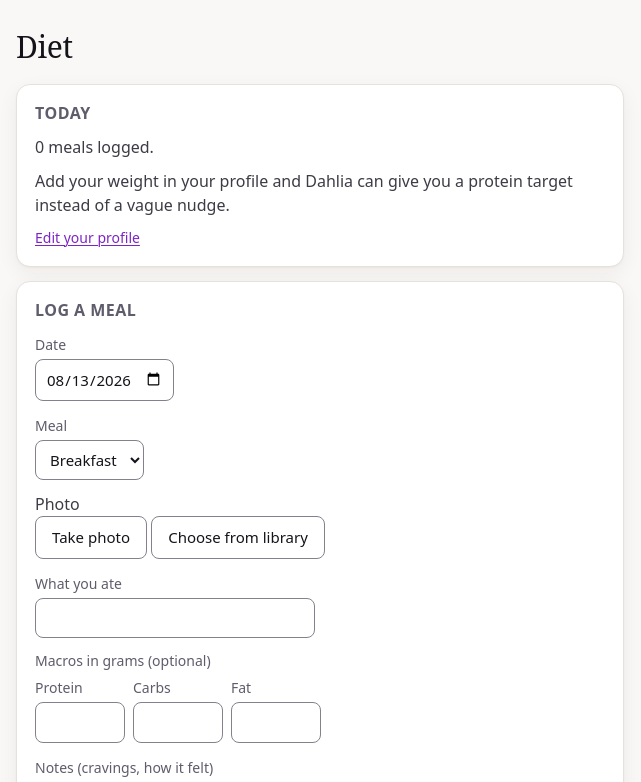
Scenario: Diet page › saves a meal and shows it in history
Type "dal and rice" into the field labelled "What you ate" at (175,618), box [35, 598, 315, 638]
(page scrolled)
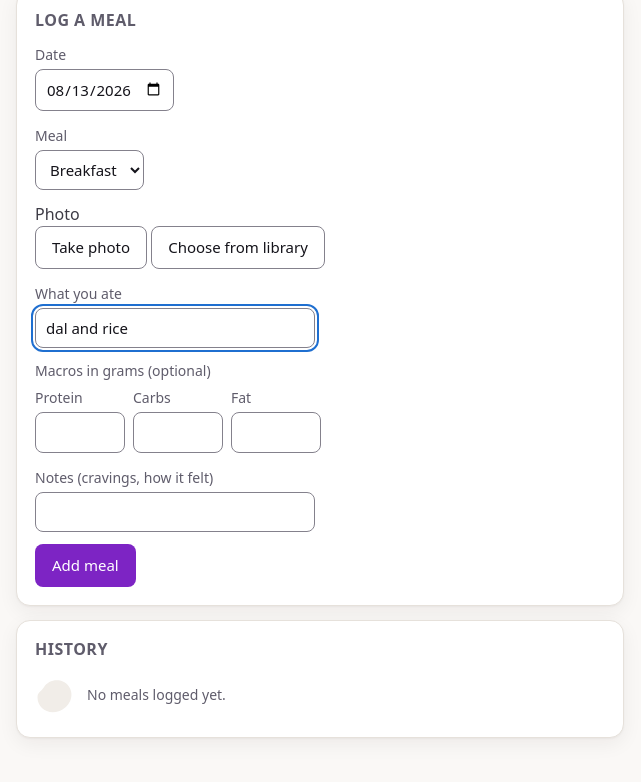
Click the button "Add meal" at (85,565), box [35, 544, 136, 586]
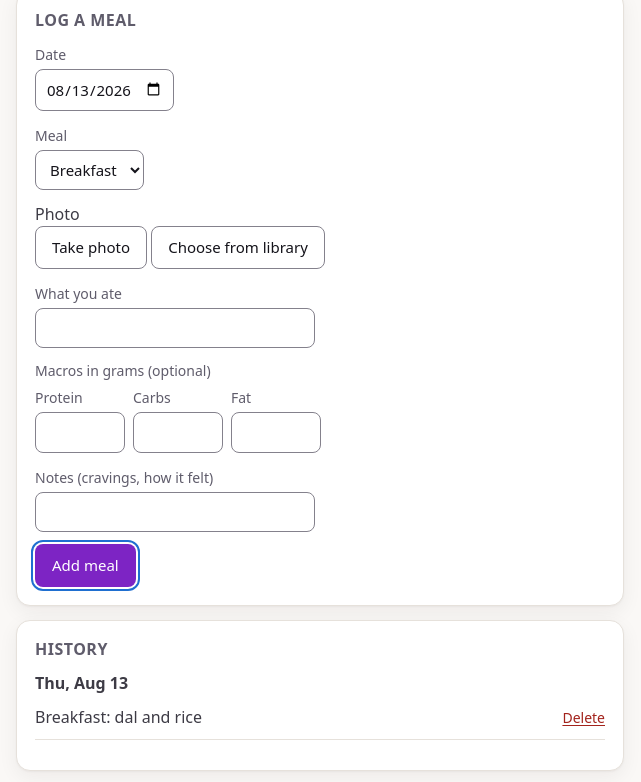
Expected: the text "Breakfast: dal and rice" is shown, [35, 704, 202, 728]
